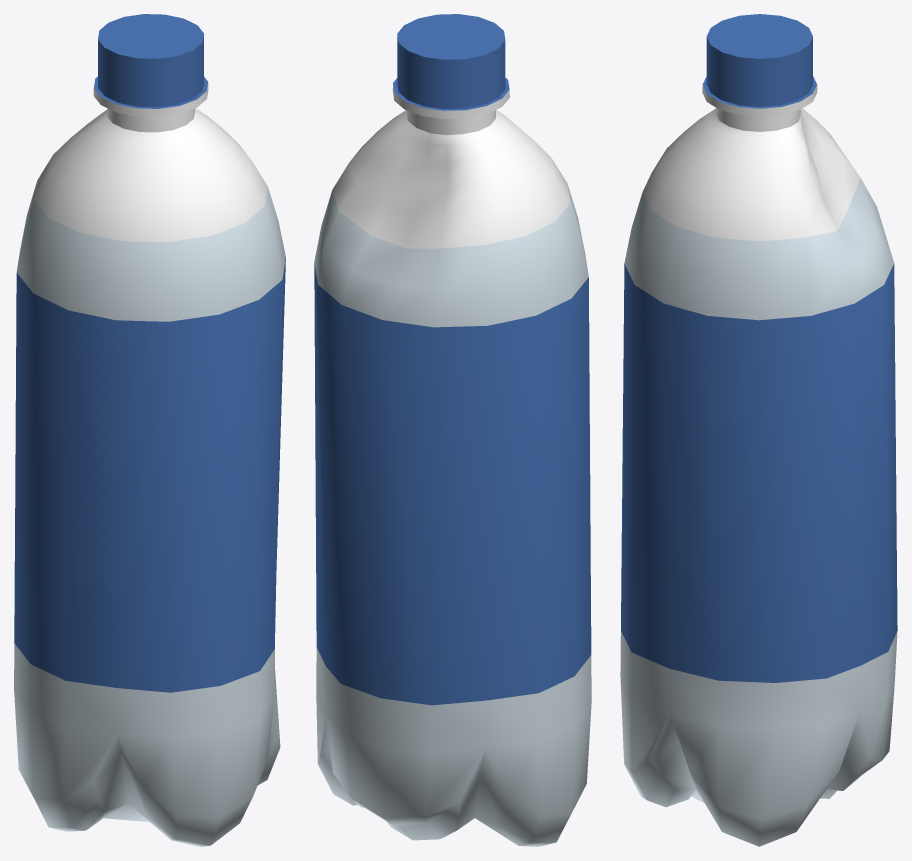
The model's file is plastic_bottle3.fbx.
The picture shows the model from 3 angles, left to right: view 1: azimuth 30°, elevation 25°; view 2: azimuth 150°, elevation 25°; view 3: azimuth 270°, elevation 25°; orthographic projection. The views are drawn at different scales.
Visible parts, largest first — view 1: Cylinder.014; view 2: Cylinder.014; view 3: Cylinder.014.
Part boxes in pixels (x1,y1,x2,y2): Cylinder.014: [14, 14, 285, 846]; Cylinder.014: [314, 14, 591, 846]; Cylinder.014: [620, 14, 897, 846].
Size of the model in its own units: 1.42 by 1.44 by 4.41.
